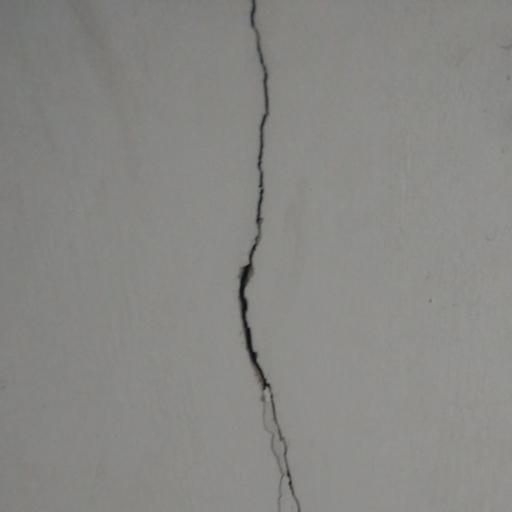major_crack: (226, 0, 304, 512)
